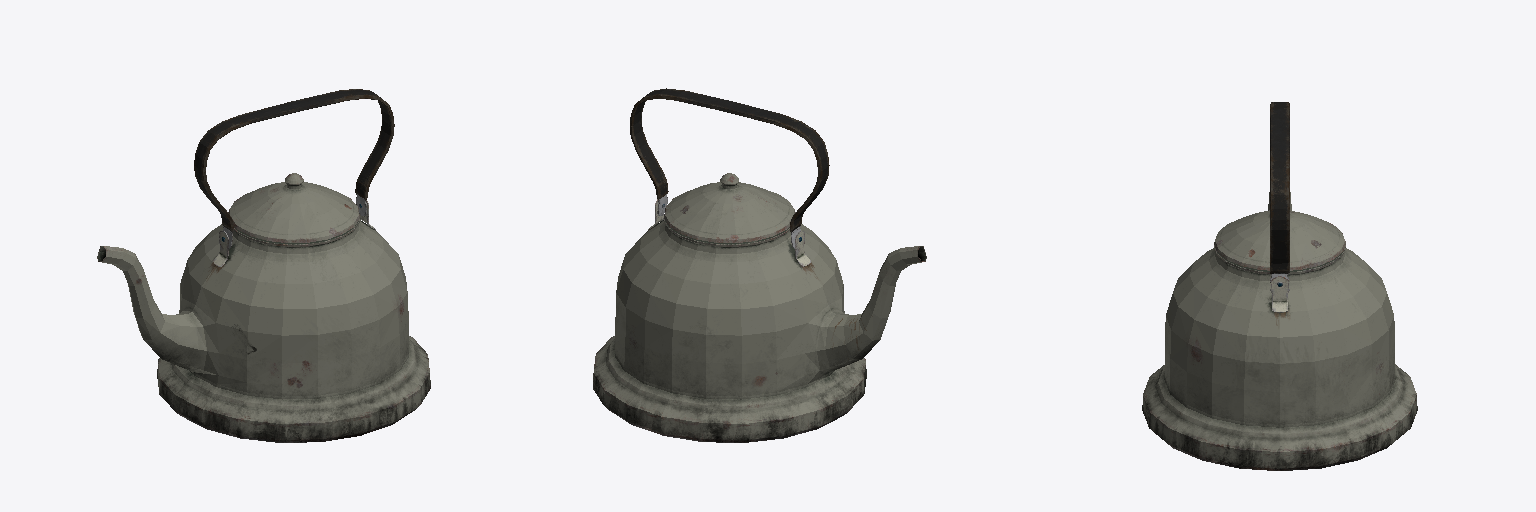
The picture shows the model from 3 angles: view 1: azimuth 30°, elevation 25°; view 2: azimuth 150°, elevation 25°; view 3: azimuth 270°, elevation 25°; orthographic projection.
Visible parts, largest first — view 1: teapot_Mesh.001, handle_Mesh; view 2: teapot_Mesh.001, handle_Mesh; view 3: teapot_Mesh.001, handle_Mesh.
Part boxes in pixels (left/top/right/bottom): teapot_Mesh.001: left=97, top=173, right=430, bottom=442; handle_Mesh: left=194, top=89, right=394, bottom=248; teapot_Mesh.001: left=593, top=173, right=926, bottom=442; handle_Mesh: left=630, top=88, right=829, bottom=248; teapot_Mesh.001: left=1142, top=192, right=1417, bottom=470; handle_Mesh: left=1270, top=102, right=1289, bottom=282.
Bounding box in the file's own units: 0.66 × 0.5677 × 0.4999.
Materials: 2 (1 with a texture image).